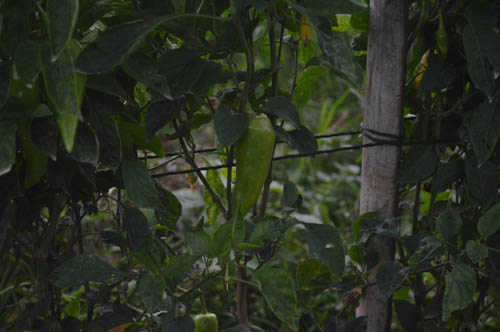ChiliPepper: (228, 117, 273, 217)
